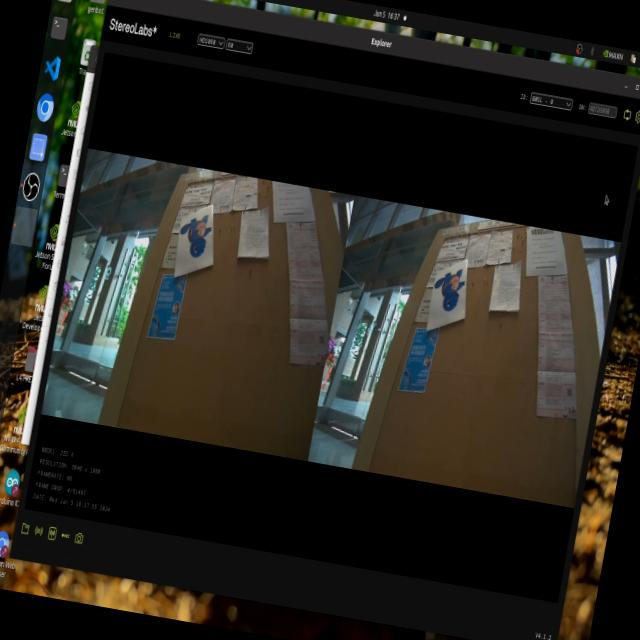blue: (171, 203, 222, 272), (433, 260, 476, 324)
